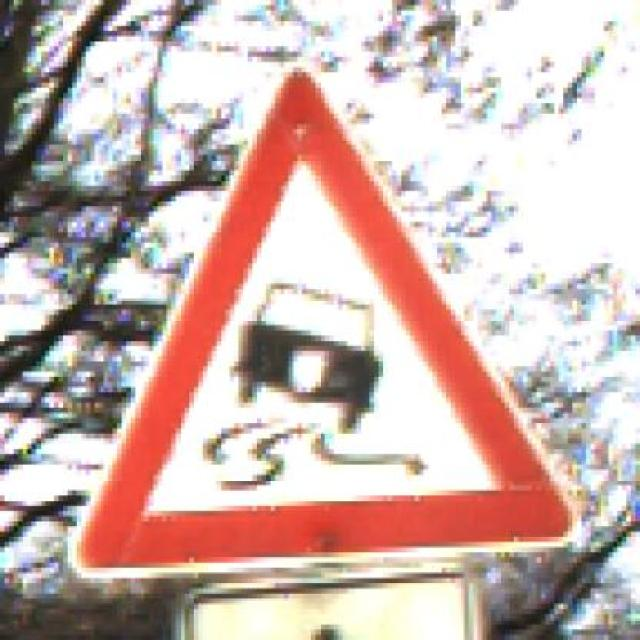Slippery Road Ahead: (49, 57, 591, 578)
